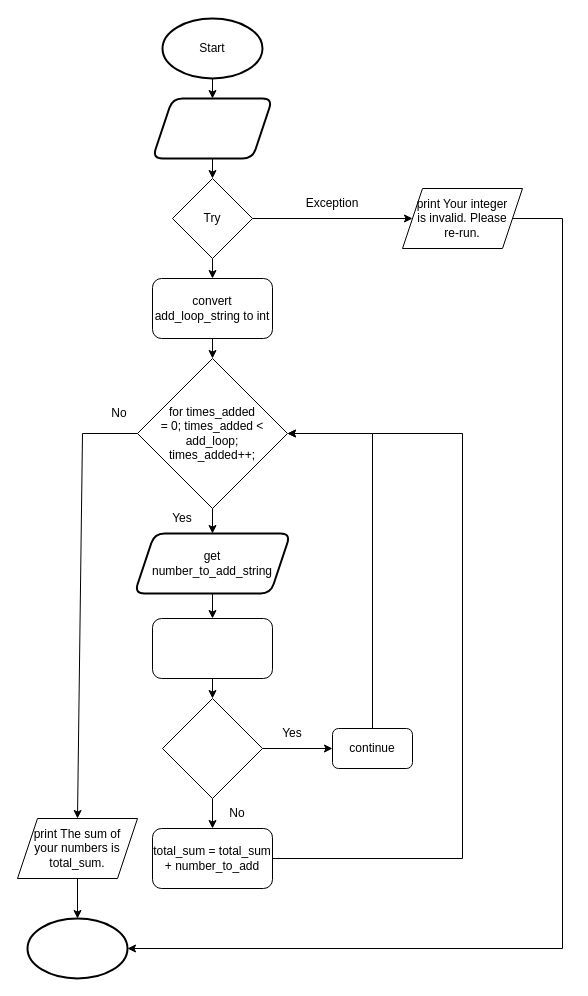
The diagram is 588 pixels wide and 996 high, and some of its shapes have lost their labels. Here are the shapes that lost their labels. From the top down, the centre of each, then its label:
At (x=212, y=128): "get add_loop_string".
At (x=212, y=648): "convert number_to_add_string to int".
At (x=212, y=748): "if number_to_add < 0".
At (x=77, y=948): "Stop".
